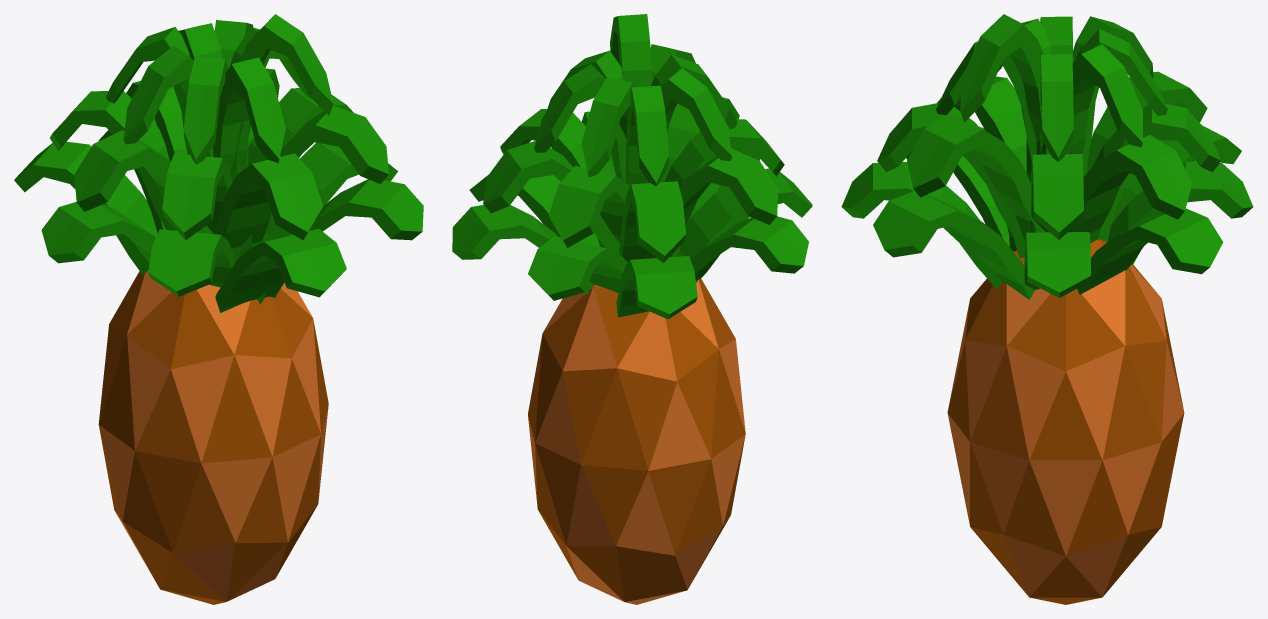
The model's file is pinapple.fbx.
The picture shows the model from 3 angles, left to right: view 1: azimuth 30°, elevation 25°; view 2: azimuth 150°, elevation 25°; view 3: azimuth 270°, elevation 25°; orthographic projection. The views are drawn at different scales.
Parts seen in each view (by area): view 1: Cube.008; view 2: Cube.008; view 3: Cube.008.
Boxes of the visible parts, bbox=[...] form: Cube.008: bbox=[14, 14, 423, 604]; Cube.008: bbox=[452, 14, 812, 604]; Cube.008: bbox=[841, 14, 1253, 604].
Bounding box in the file's own units: 339 × 560 × 348.
